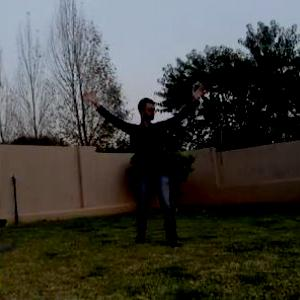takeoff: (83, 87, 209, 244)
